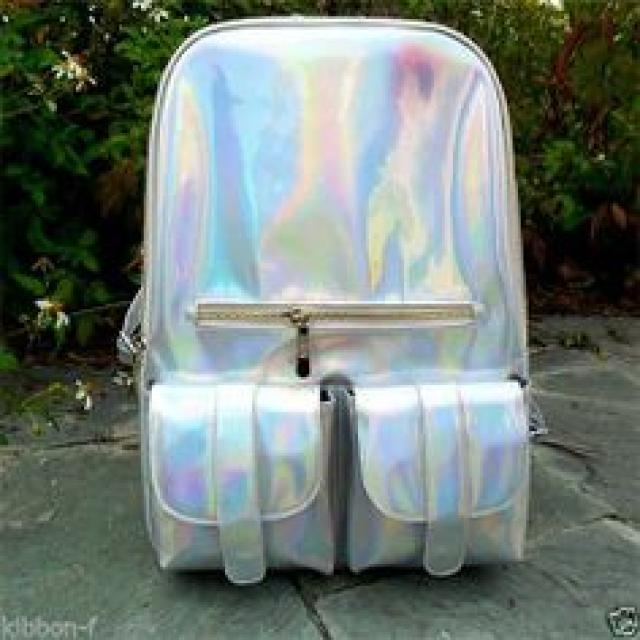backpack: (118, 15, 541, 584)
